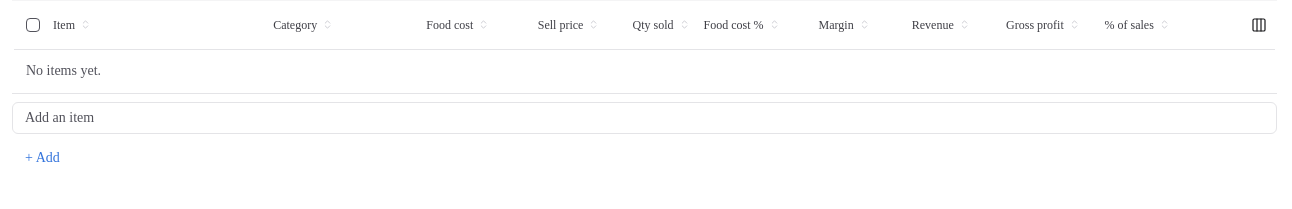
Test case: the quick-add field › adds a named row for text that matches nothing
Type "Daily special" into the field named "Quick add item".
click(644, 118); type("Daily special")  # box [12,102,1277,134]
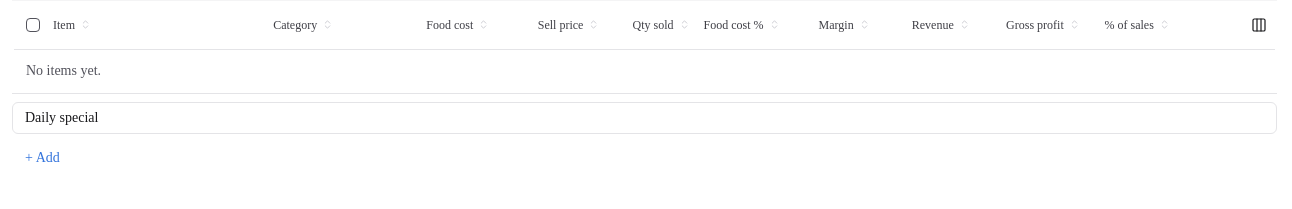
Press Enter in the field named "Quick add item", box [12,102,1277,134]
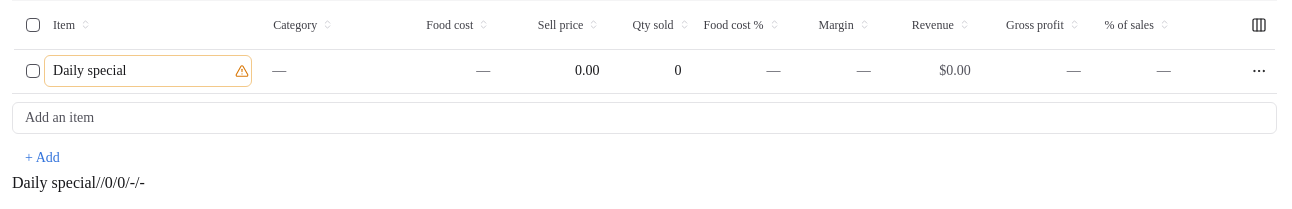
expect the text with test id "rows" reads "Daily special//0/0/-/-": met, box [12,174,145,191]
expect the field named "Quick add item" is empty: met, box [12,102,1277,134]
